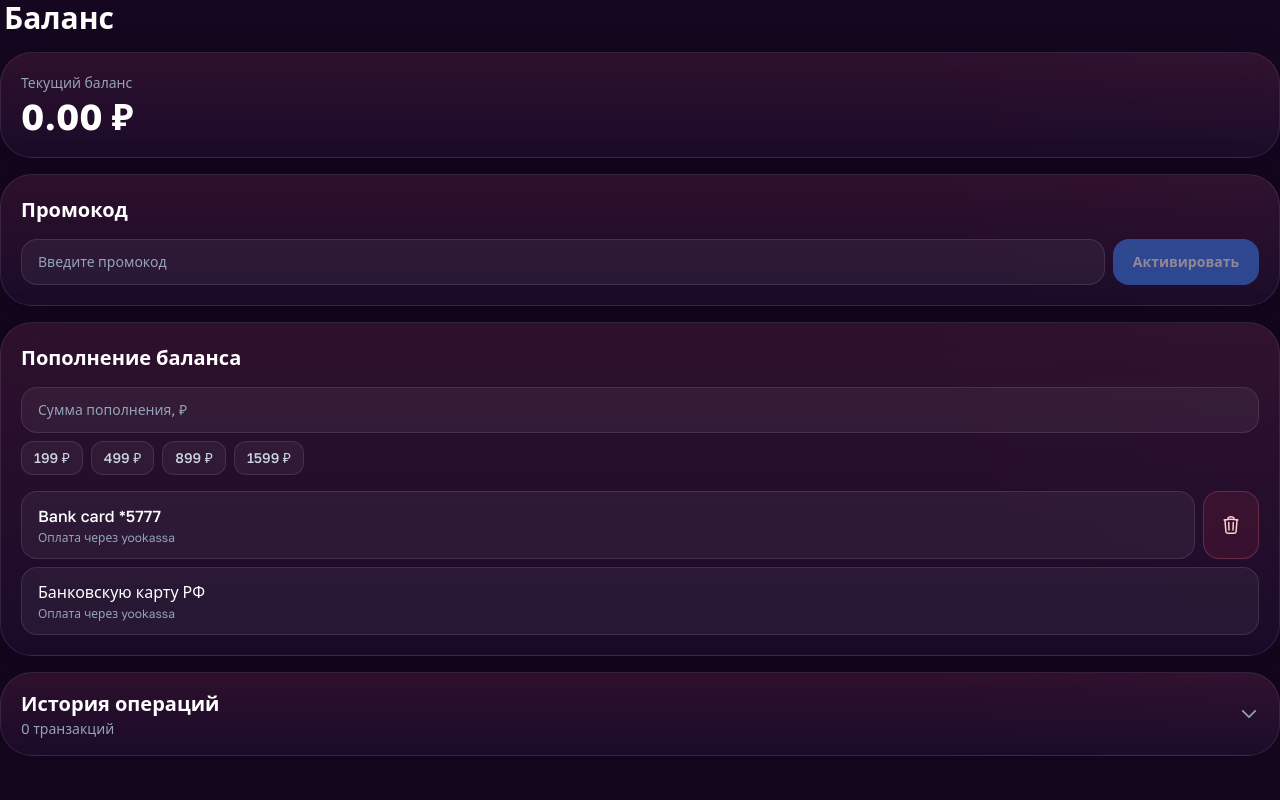
Test: PaymentsPage — удаление сохранённой карты › клик → подтверждение → DELETE с кодом платёжной системы и рефреш дашборда
The image size is (1280, 800).
Click the button named "Отвязать «Bank card *5777»". click: (1231, 525)
box: [1203,491,1259,559]
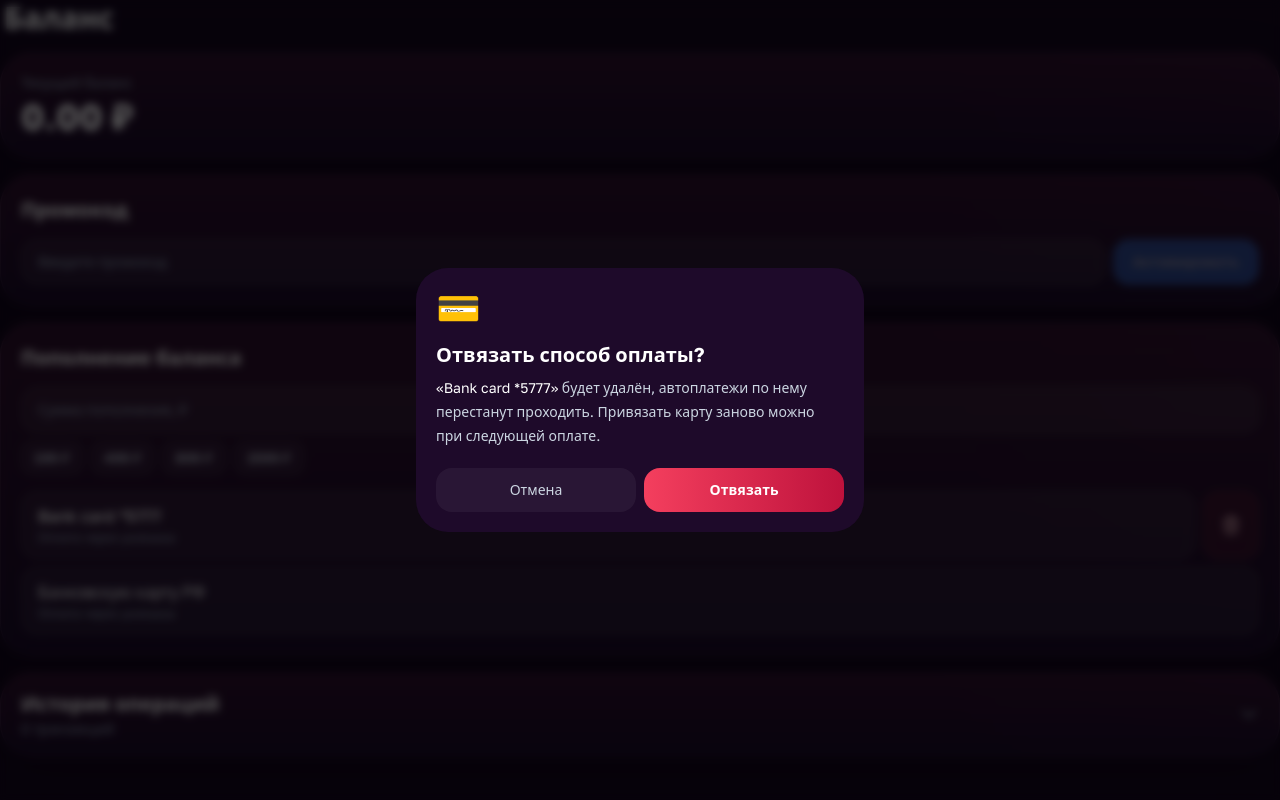
Check: the heading "Отвязать способ оплаты?" is shown, box [436,342,705,366]
Click the button "Отвязать". click: (744, 490)
box: [644,468,844,512]
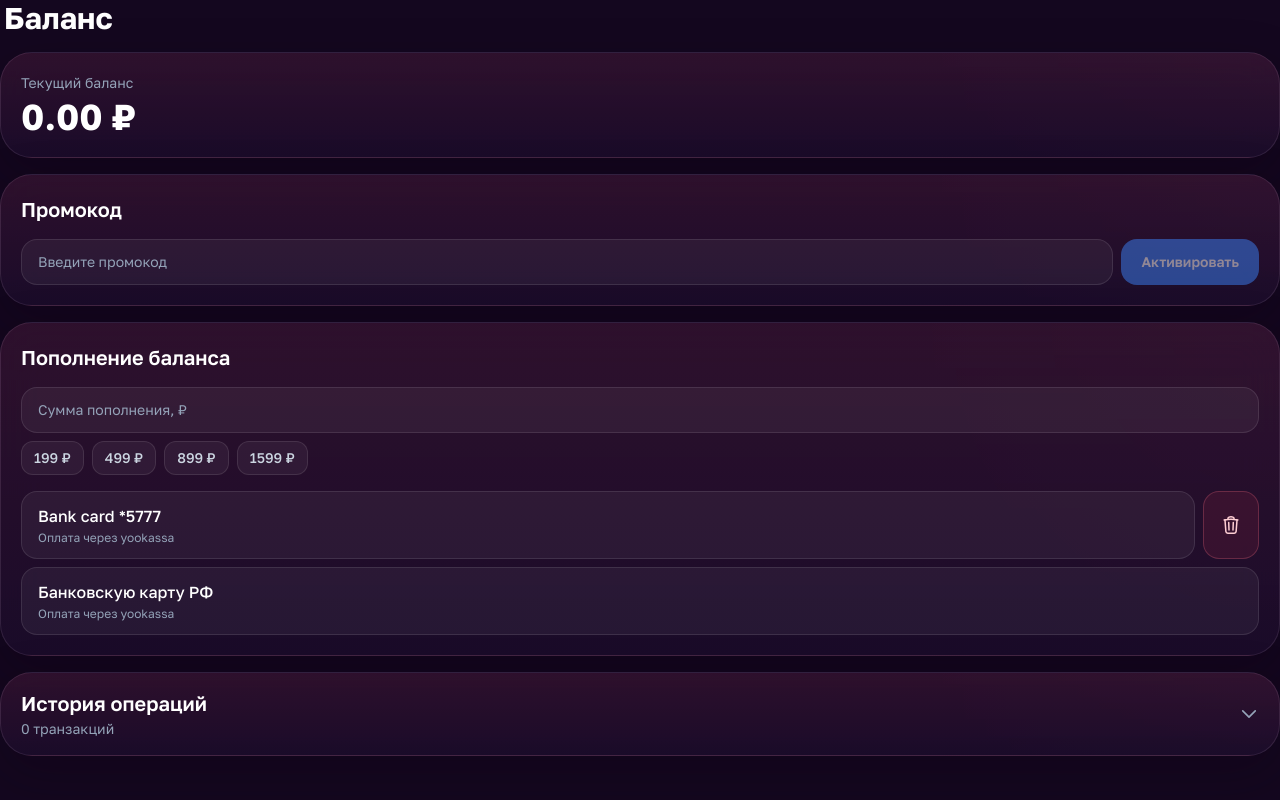
Check: the heading "Отвязать способ оплаты?" is gone
